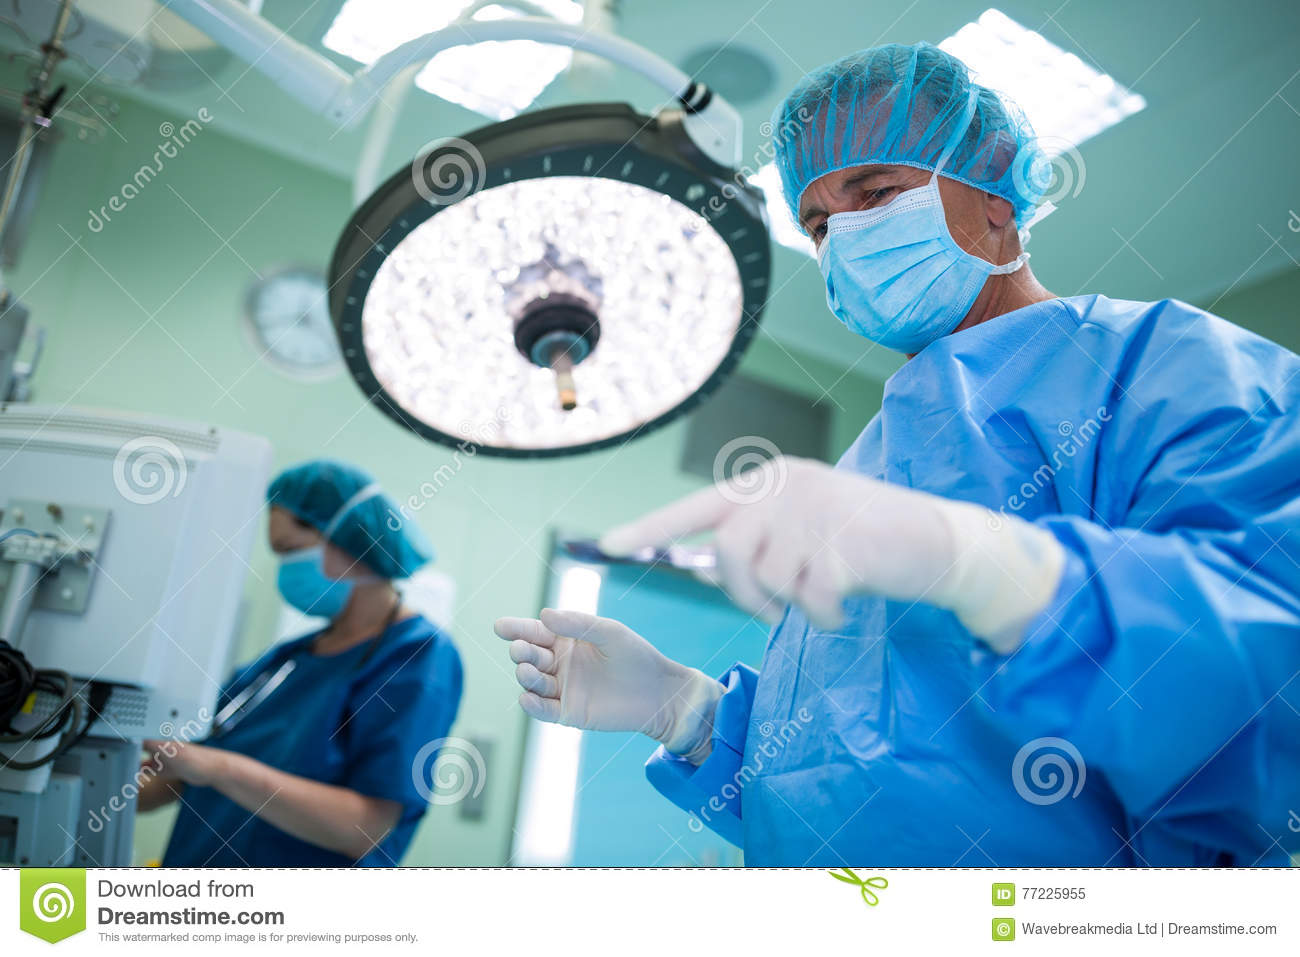mask: (810, 217, 997, 369)
